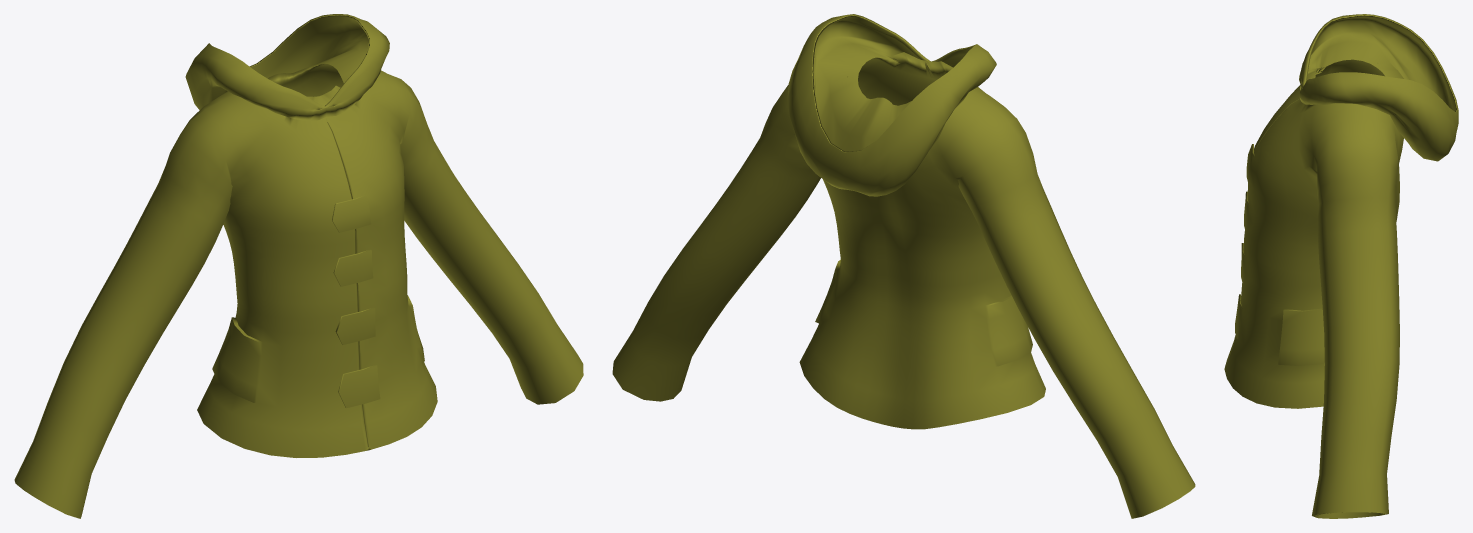
Rendered from Rain_Coat_1.fbx.
3 views of the same model, side by side, from view 1: azimuth 30°, elevation 25°; view 2: azimuth 150°, elevation 25°; view 3: azimuth 270°, elevation 25° (orthographic). The views are drawn at different scales.
Visible parts, largest first — view 1: Rain_Coat; view 2: Rain_Coat; view 3: Rain_Coat.
Boxes of the visible parts, <box> form: Rain_Coat: <box>14,14,583,518</box>; Rain_Coat: <box>612,14,1195,518</box>; Rain_Coat: <box>1224,14,1458,518</box>.
Size of the model in its own units: 1.48 by 1.05 by 0.5947.
